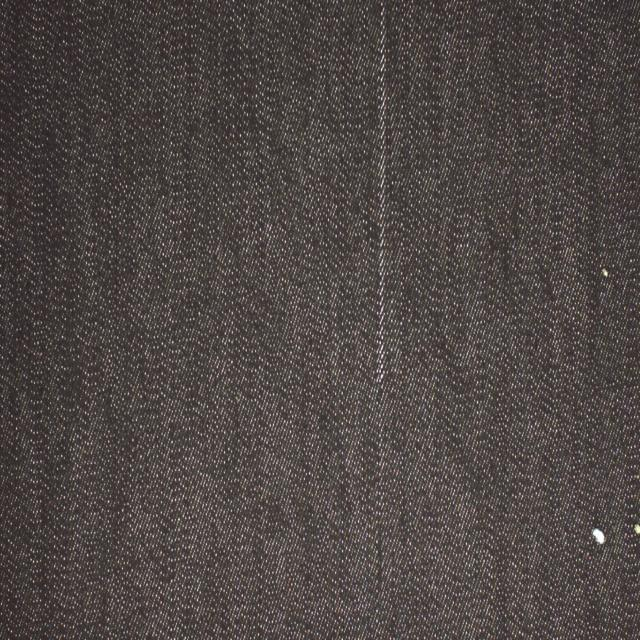Knot: (593, 529, 609, 546), (632, 523, 640, 536), (604, 268, 610, 278)
Line: (375, 0, 386, 387)
